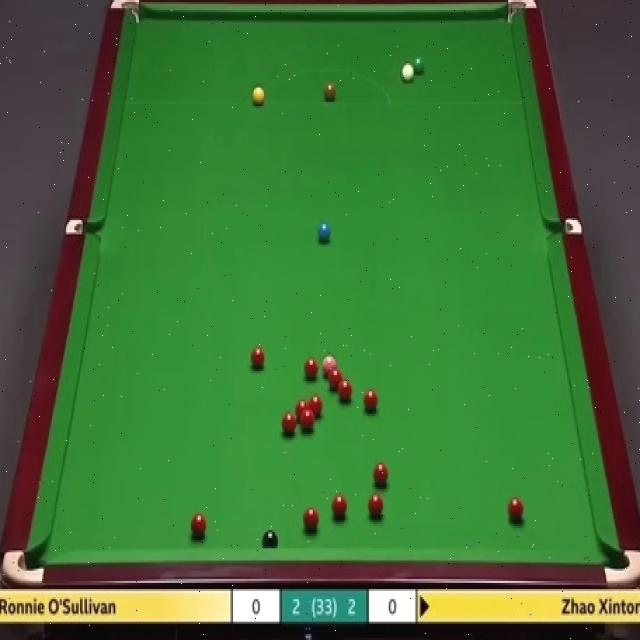black-ball: (264, 529, 282, 548)
blue-ball: (317, 223, 332, 240)
brown-ball: (324, 83, 337, 106)
green-ball: (412, 55, 425, 70)
pink-ball: (322, 354, 337, 374)
red-ball: (189, 512, 207, 538), (373, 461, 389, 489), (308, 394, 325, 420), (303, 507, 320, 532), (507, 496, 524, 521), (332, 491, 347, 519), (281, 412, 297, 436), (369, 494, 384, 517), (251, 346, 264, 370), (301, 410, 315, 432), (303, 357, 317, 377), (295, 400, 309, 420), (328, 368, 342, 388), (338, 382, 351, 403), (363, 391, 378, 409)
white-ball: (402, 64, 413, 81)
yellow-ball: (252, 86, 265, 106)
